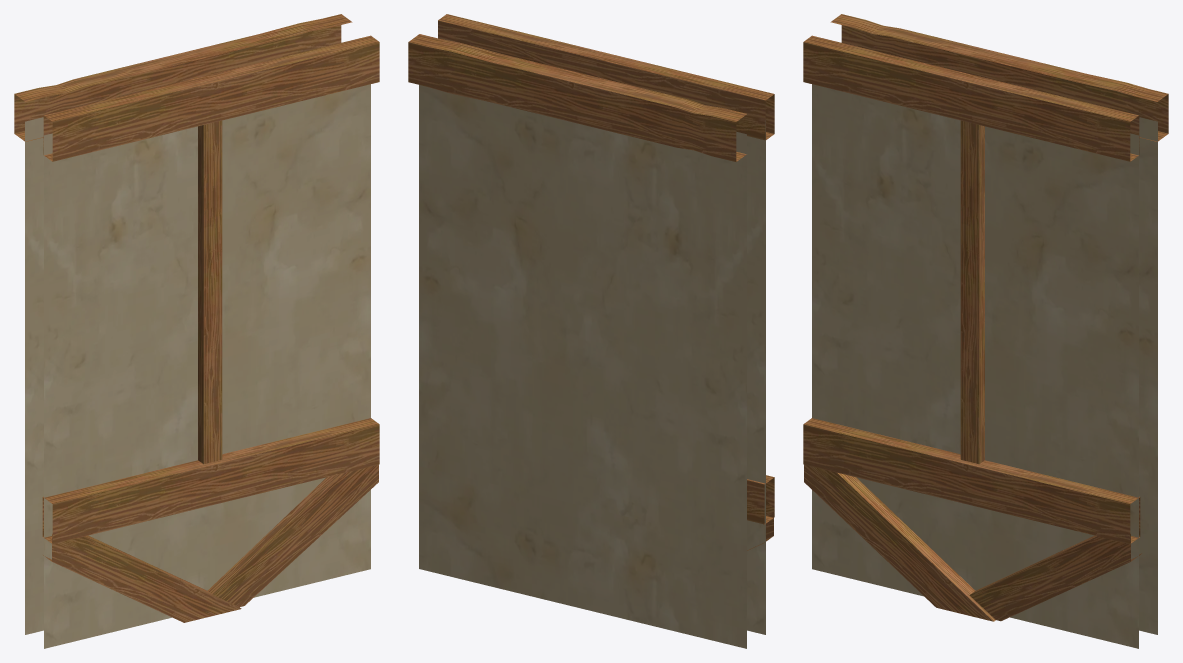
The model's file is wall_plaster_straight.glb.
The picture shows the model from 3 angles, left to right: view 1: azimuth 30°, elevation 25°; view 2: azimuth 150°, elevation 25°; view 3: azimuth 330°, elevation 25°; orthographic projection.
Visible parts, largest first — view 1: Wall_Plaster_Straight; view 2: Wall_Plaster_Straight; view 3: Wall_Plaster_Straight.
Boxes of the visible parts, left/top/right/bottom form: Wall_Plaster_Straight: left=14, top=14, right=379, bottom=648; Wall_Plaster_Straight: left=408, top=14, right=774, bottom=648; Wall_Plaster_Straight: left=803, top=14, right=1168, bottom=648.
Bounding box in the file's own units: 2 × 3.12 × 0.4066.
Materials: 2 (2 with a texture image).
